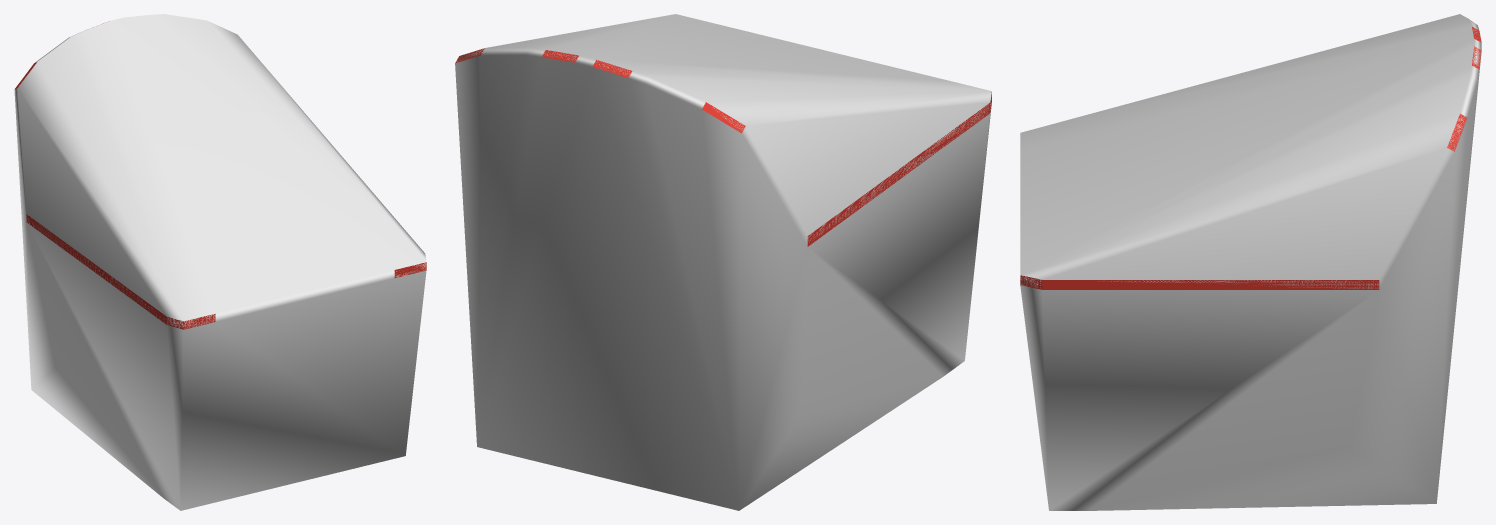
The model's file is SM_AdirondackChair.glb.
3 renders of one model, left to right at view 1: azimuth 30°, elevation 25°; view 2: azimuth 150°, elevation 25°; view 3: azimuth 270°, elevation 25°, orthographic. The views are drawn at different scales.
Parts seen in each view (by area): view 1: SM_AdirondackChair_col, SM_AdirondackChair_Mesh; view 2: SM_AdirondackChair_col, SM_AdirondackChair_Mesh; view 3: SM_AdirondackChair_col, SM_AdirondackChair_Mesh.
Part boxes in pixels (x1=…): SM_AdirondackChair_col: x1=14, y1=14, x2=426, y2=510; SM_AdirondackChair_Mesh: x1=15, y1=23, x2=426, y2=329; SM_AdirondackChair_col: x1=455, y1=14, x2=991, y2=510; SM_AdirondackChair_Mesh: x1=455, y1=48, x2=991, y2=246; SM_AdirondackChair_col: x1=1020, y1=14, x2=1481, y2=510; SM_AdirondackChair_Mesh: x1=1020, y1=26, x2=1481, y2=289.
Bounding box in the file's own units: 0.81 × 1 × 1.04.
Materials: 2 (2 with a texture image).
